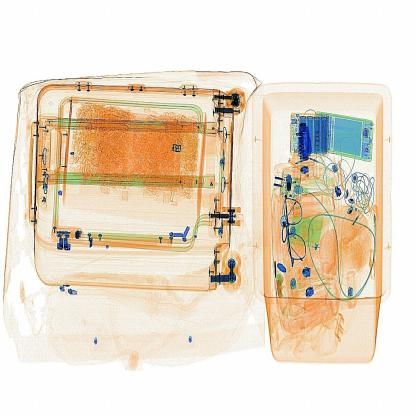scissors: (295, 118, 314, 166)
